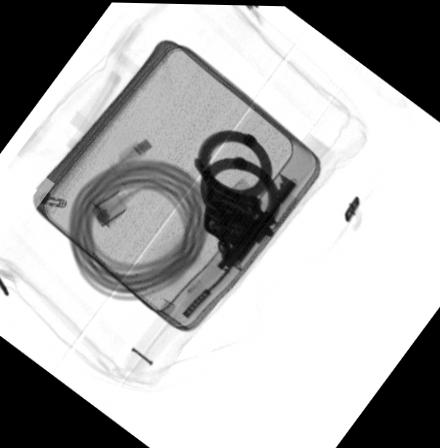Gun: (179, 164, 306, 324)
HandCuffs: (193, 126, 281, 241)
